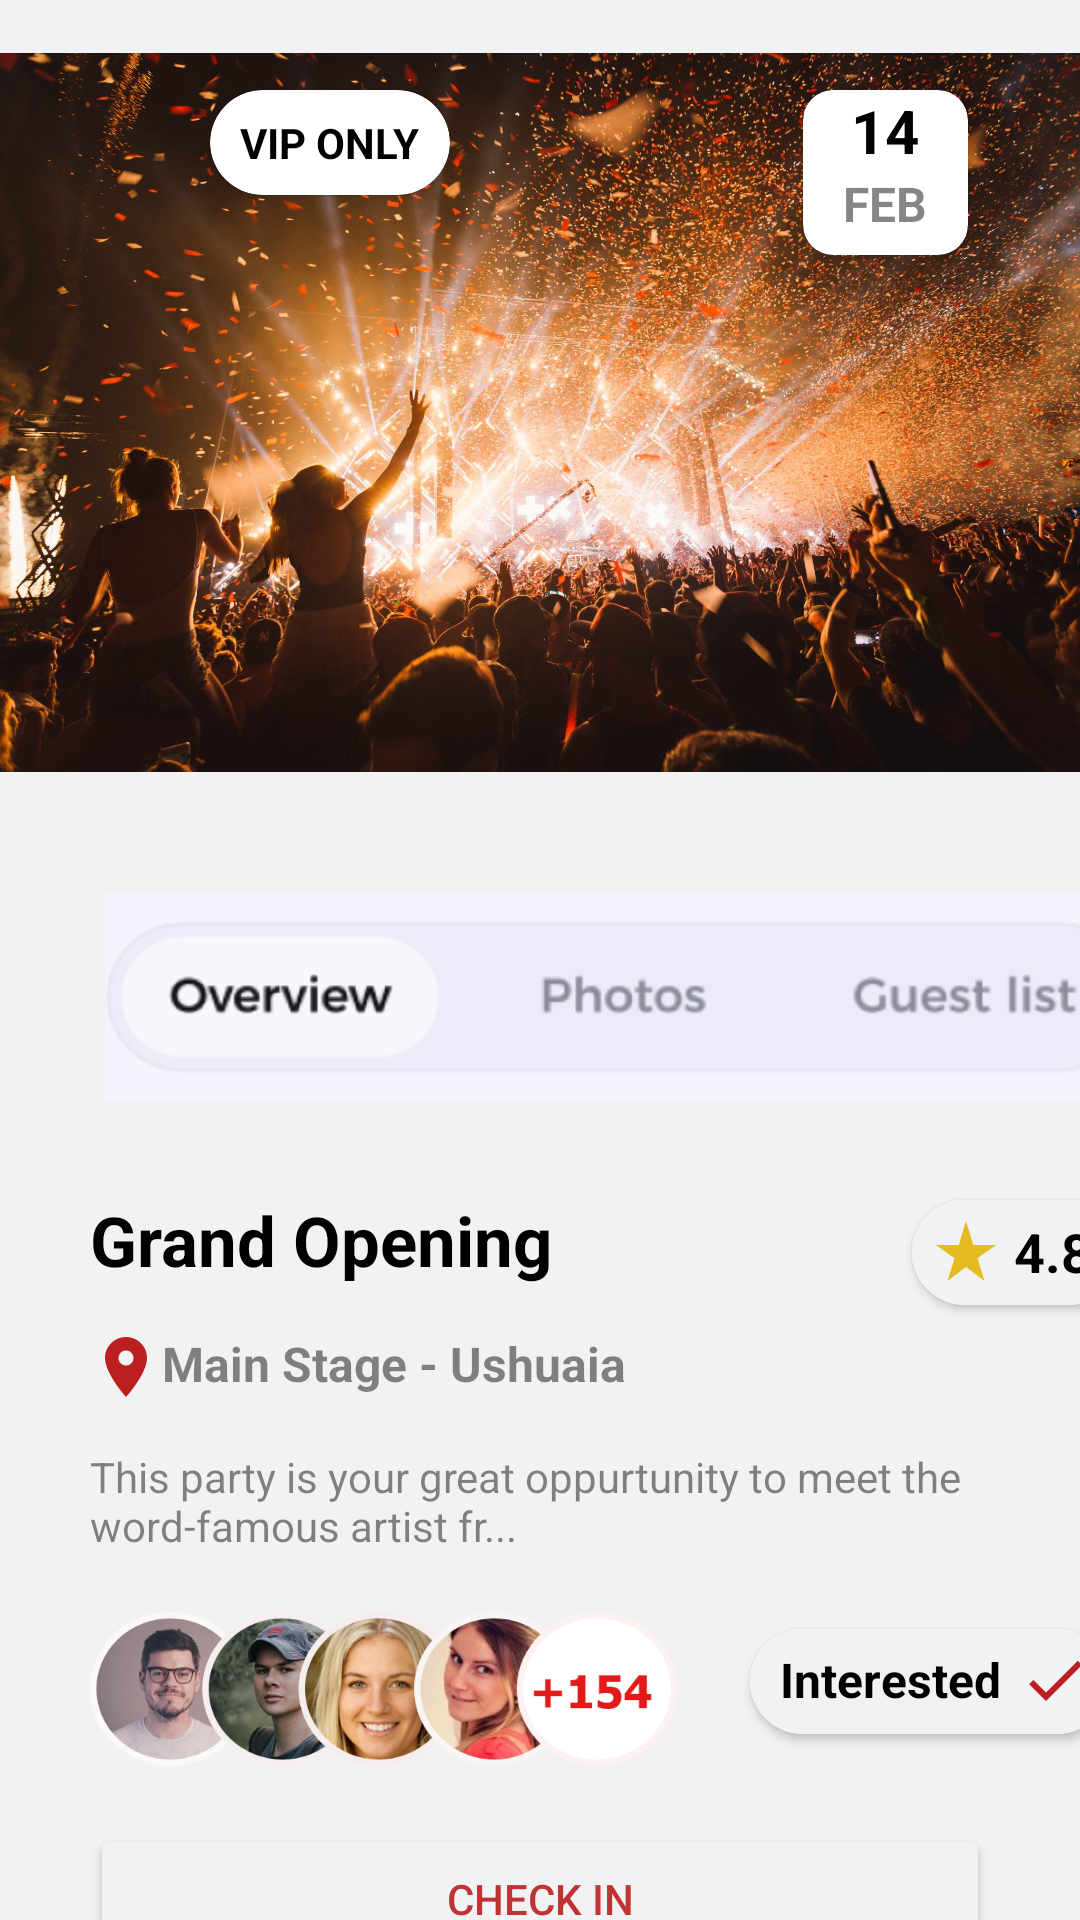

Named icons in this screenshot (1080×1920) and their bounding boxes, {"x1": x1, "y1": y1, "x2": x2, "y2": y2}:
location on: {"x1": 105, "y1": 1337, "x2": 147, "y2": 1397}
star rate: {"x1": 936, "y1": 1221, "x2": 996, "y2": 1281}
